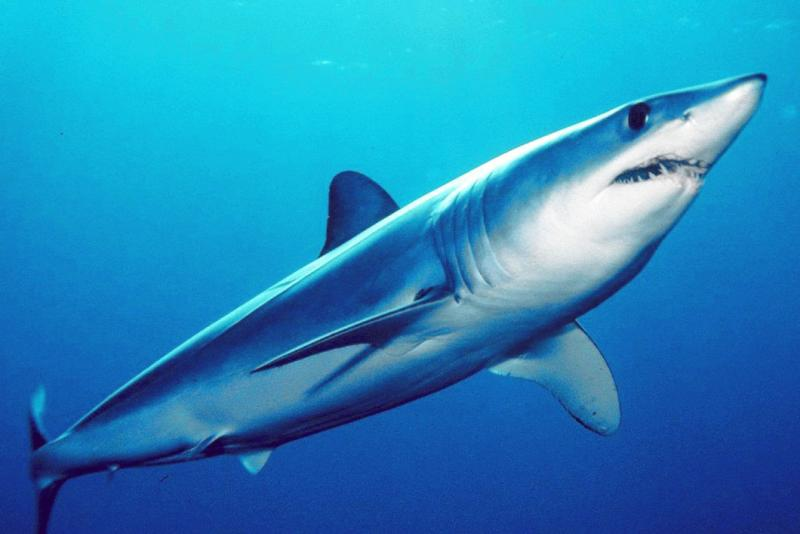Shark: (27, 75, 763, 532)
